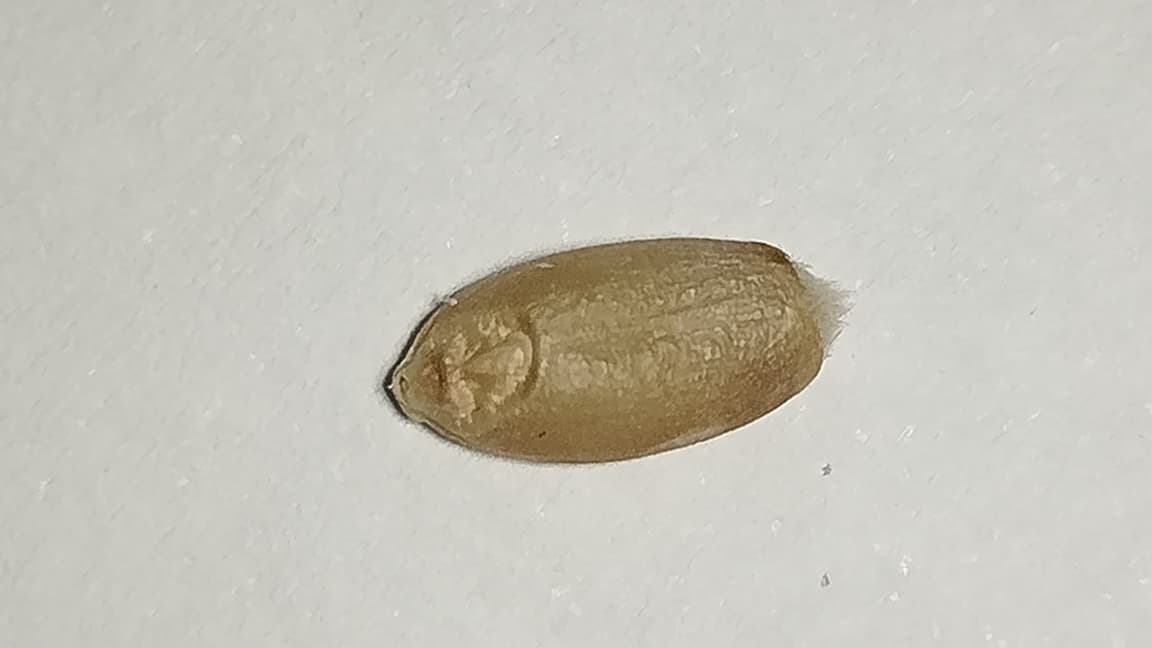healthy: (391, 239, 838, 456)
